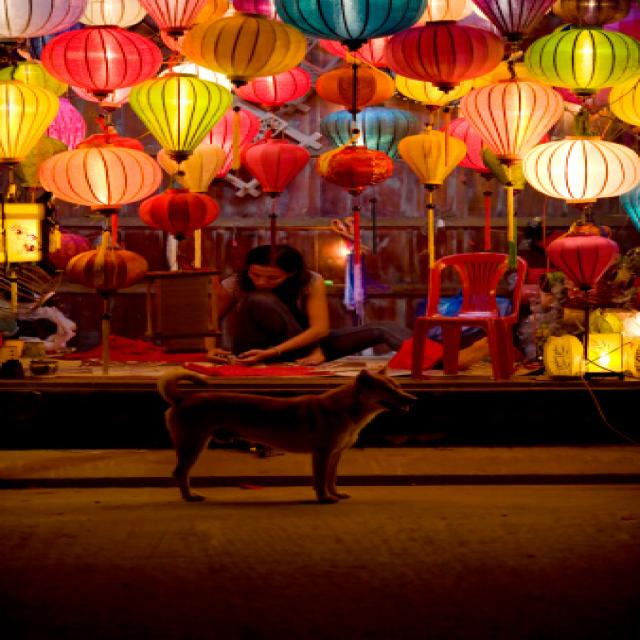People: (203, 236, 352, 383)
chair: (413, 242, 542, 393)
dog: (122, 375, 461, 518)
